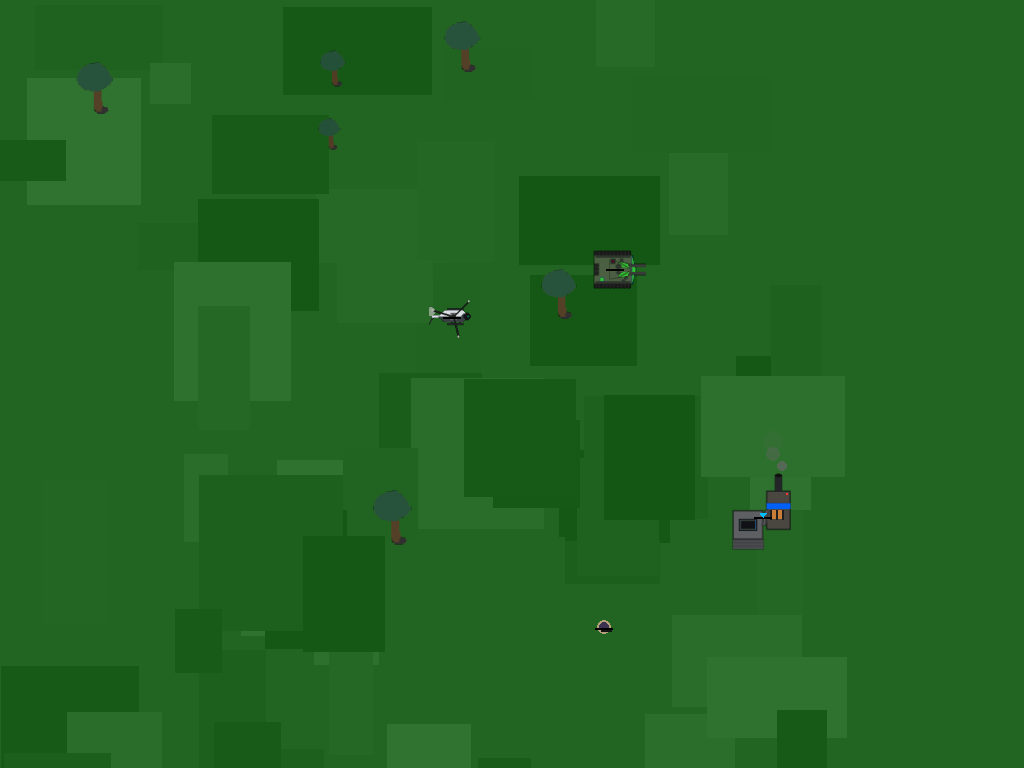Helicopter: (437, 300, 467, 330)
MiningRig: (726, 479, 799, 552)
RocketTrooper: (590, 613, 618, 641)
Type99: (592, 245, 638, 291)
